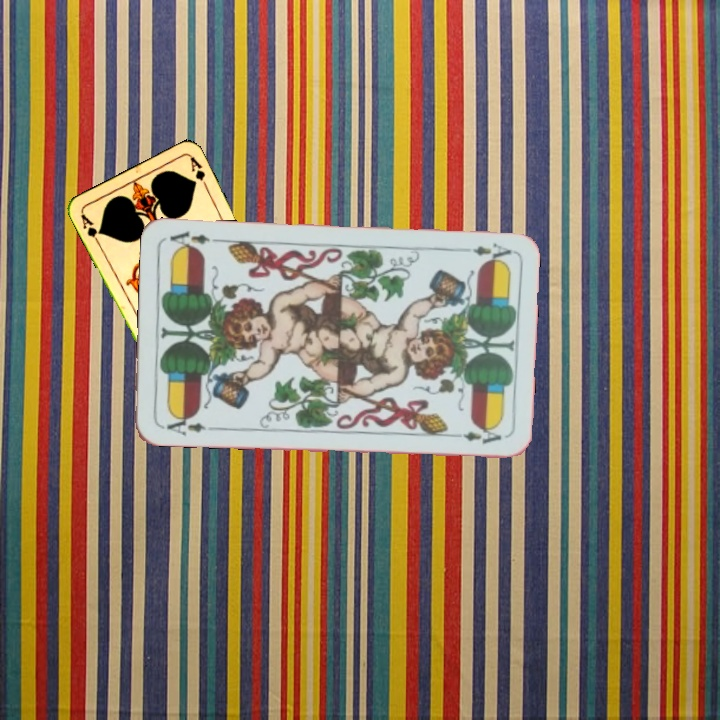EA: (158, 411, 217, 439), (469, 239, 514, 265)
GA: (76, 209, 104, 247)
